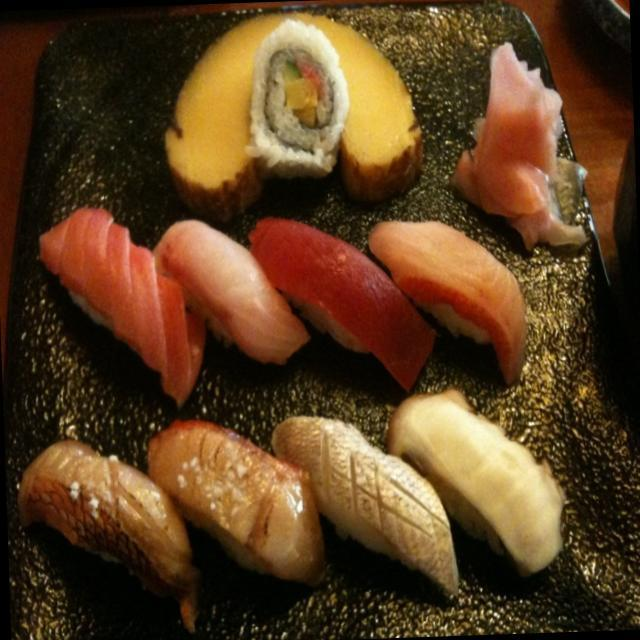Sushi: (9, 178, 578, 604)
